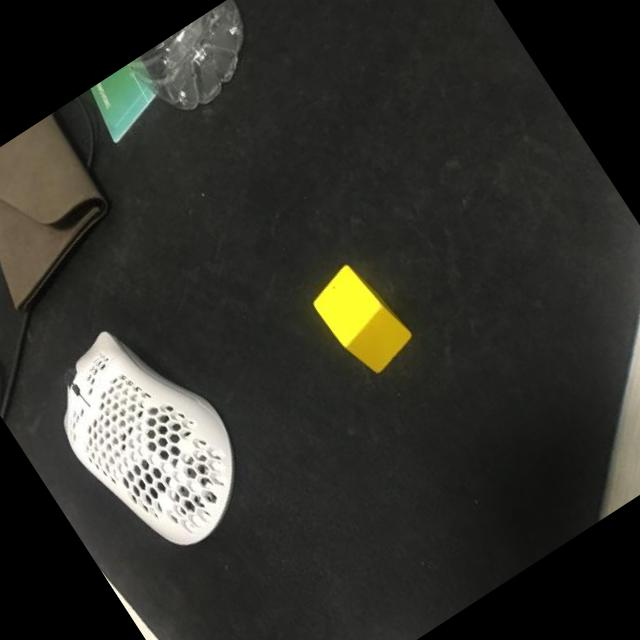yellow: (305, 255, 421, 383)
